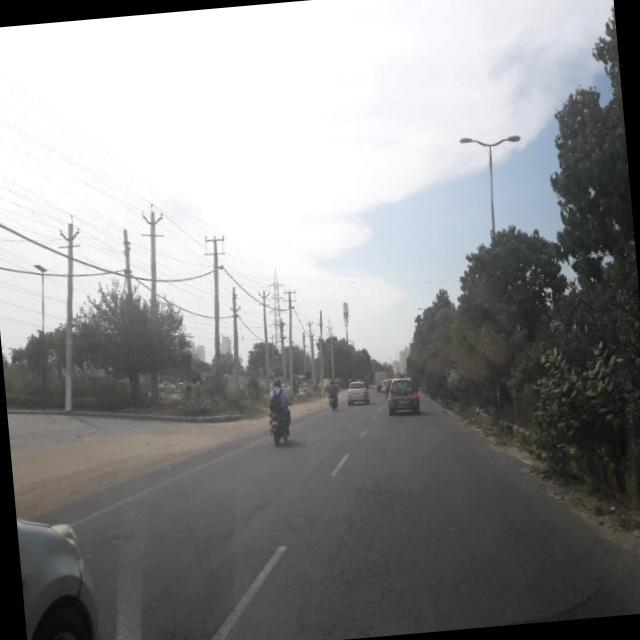crack: (260, 426, 585, 634), (78, 490, 273, 640)
